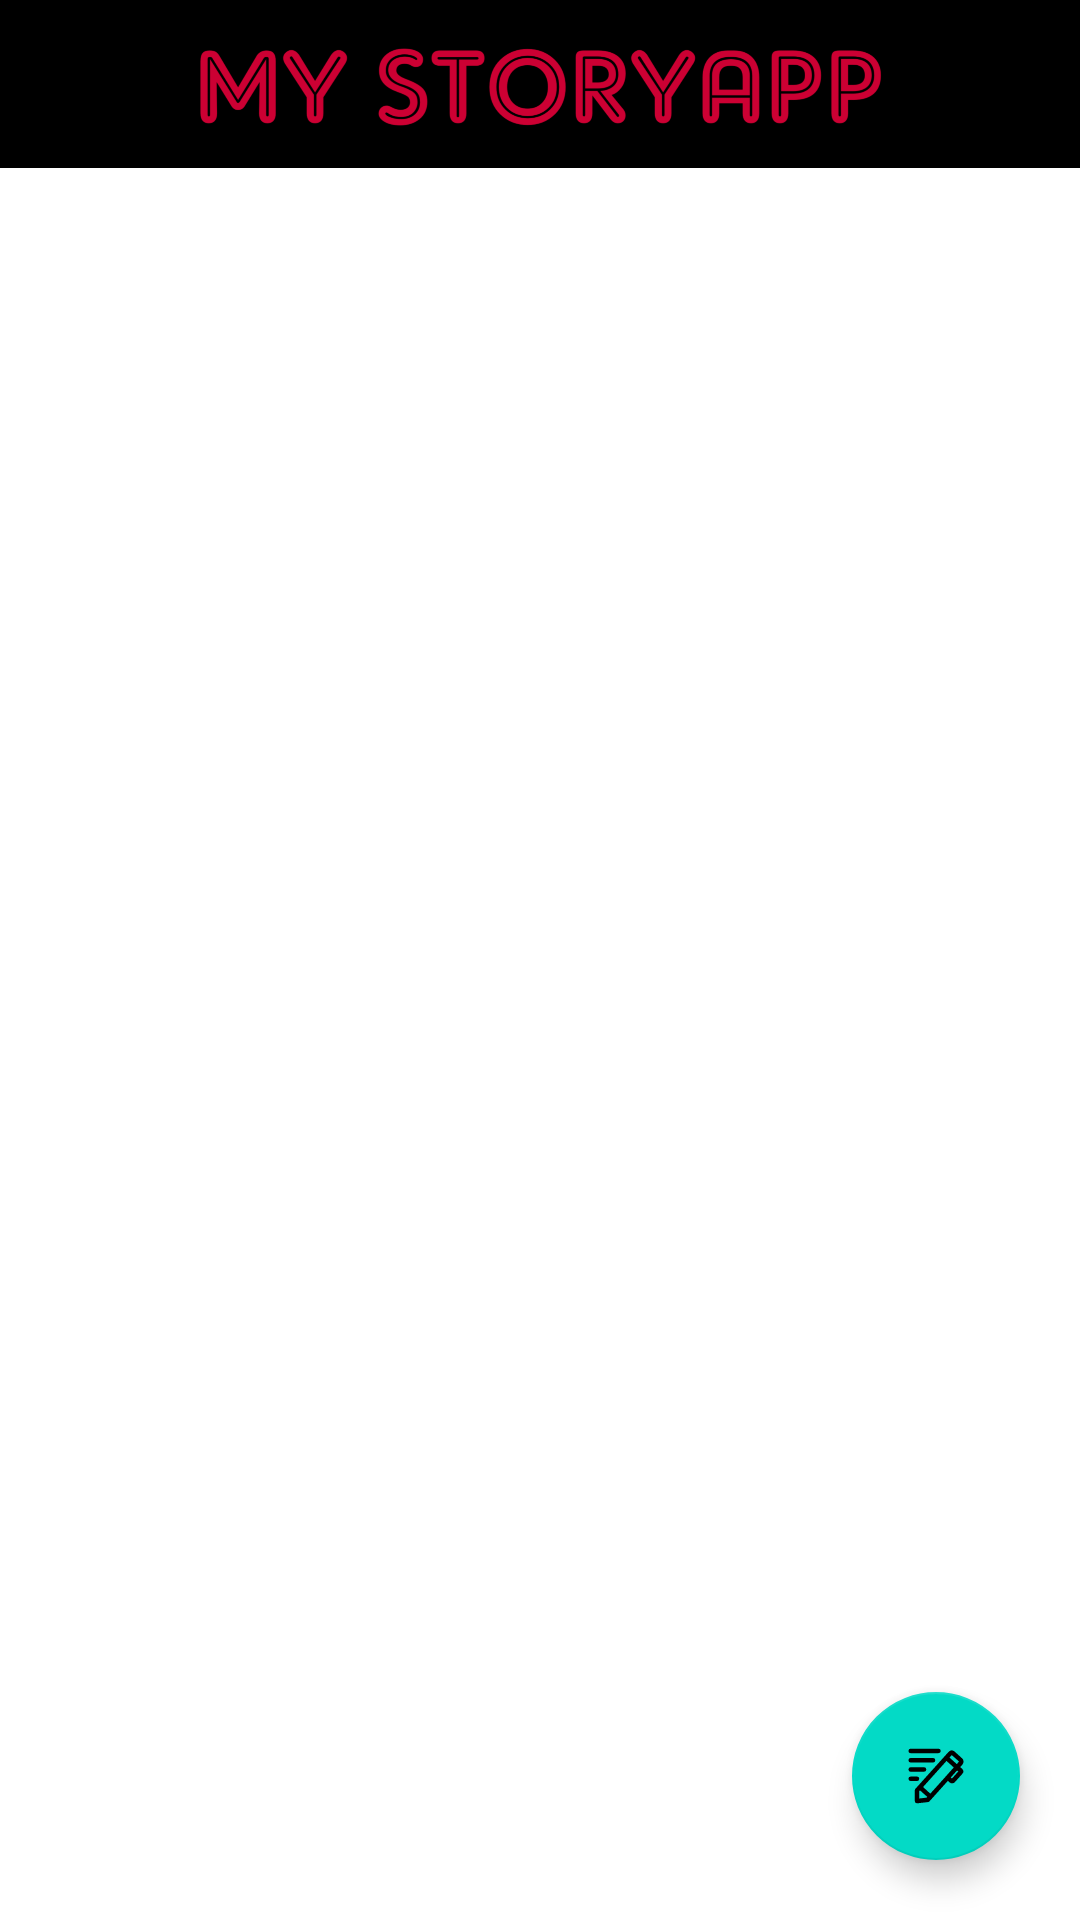

Icon click points for this 1080w x 1920h phone screenshot, format [x,y]:
create story: [936,1776]
